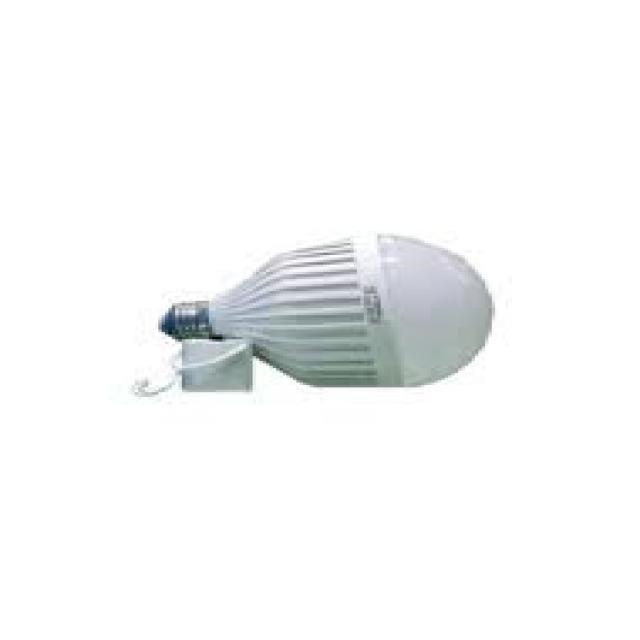light_bulb: (140, 221, 508, 423)
